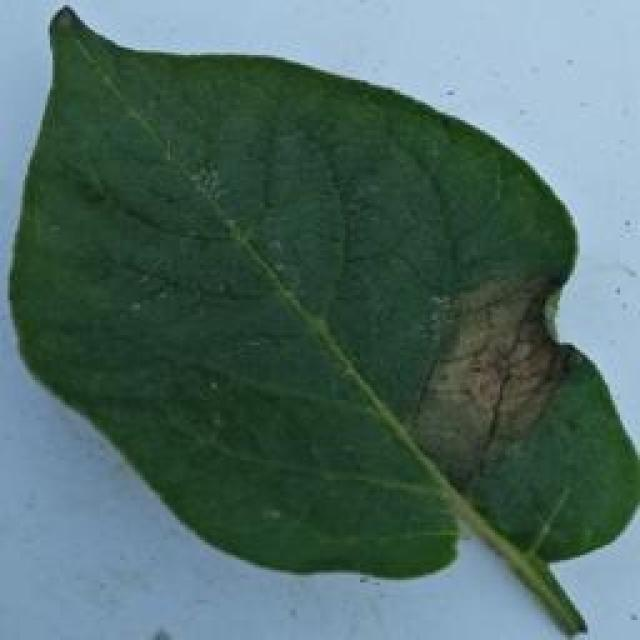Potato_Late_Blight: (13, 5, 626, 628)
